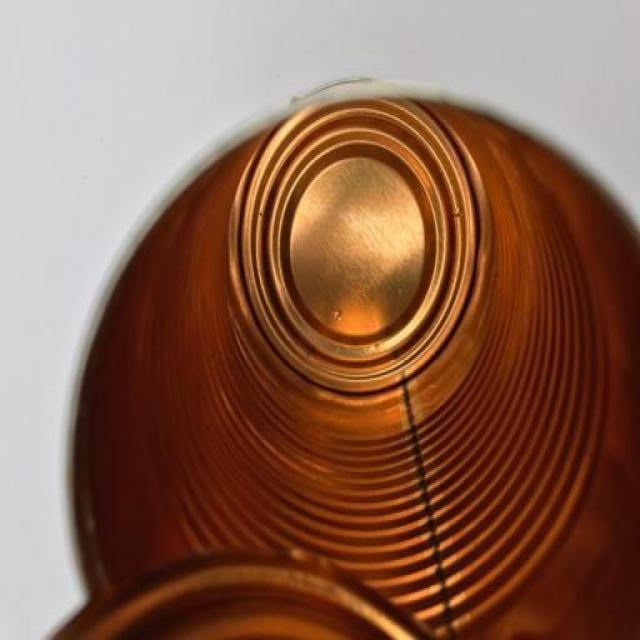recyclable: (65, 74, 639, 638), (42, 546, 456, 638)
